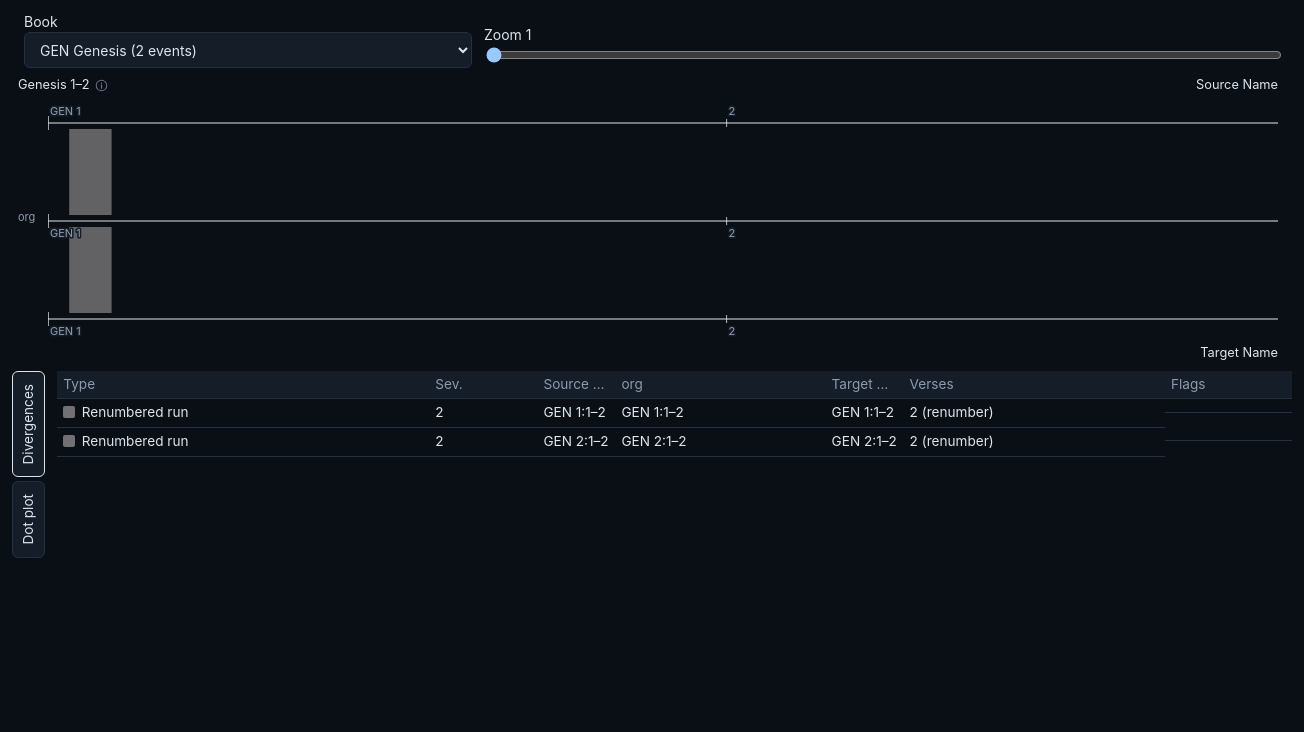
it: DetailView selection › explains the verse axes from the range label
The width and height of the screenshot is (1304, 732).
Expected: the element with class "dv-ladder-place" is shown, [12, 76, 108, 95]
Expected: the element with class "dv-ladder-place" shows "Genesis", [18, 77, 90, 92]
Click the button named "Verse axes explanation". click: (102, 86)
box: [95, 79, 108, 92]
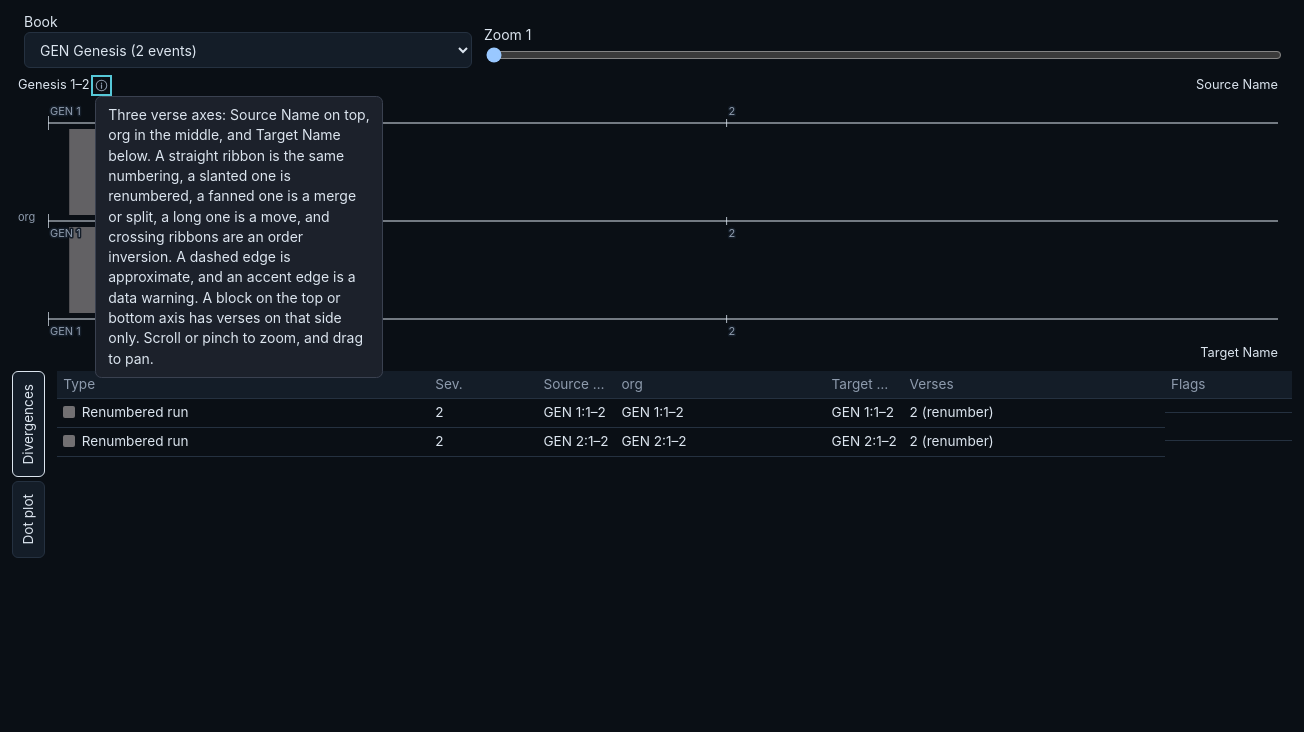
Expected: the tooltip shows "Three verse axes: Source Name on top, org in the middle, and Target Name below.", [108, 106, 370, 367]
Expected: the tooltip shows "drag to pan", [108, 106, 370, 367]
